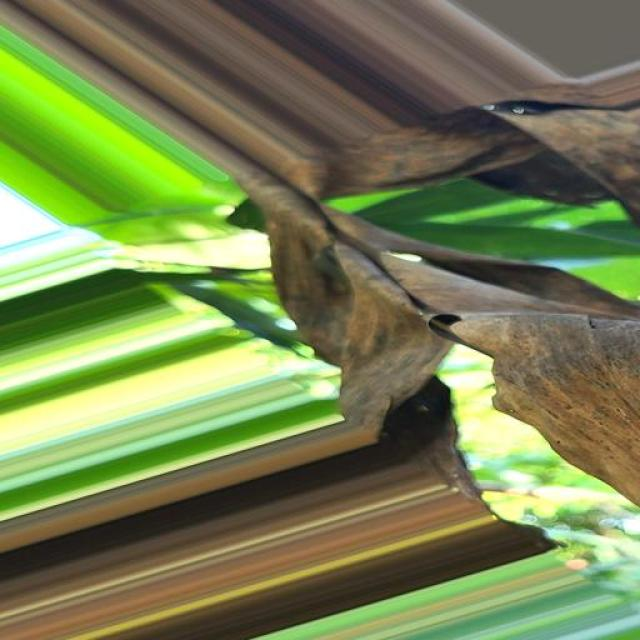Bract_mosaic_virus: (235, 169, 640, 551), (289, 85, 640, 214)
